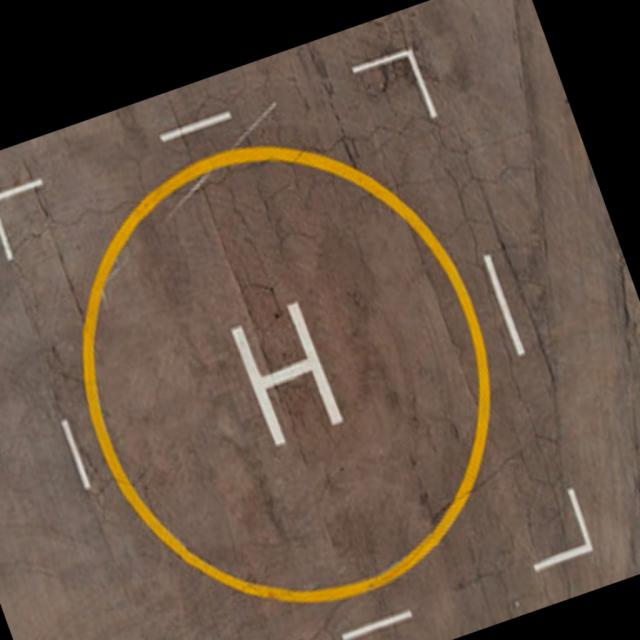helipad: (72, 138, 501, 613)
